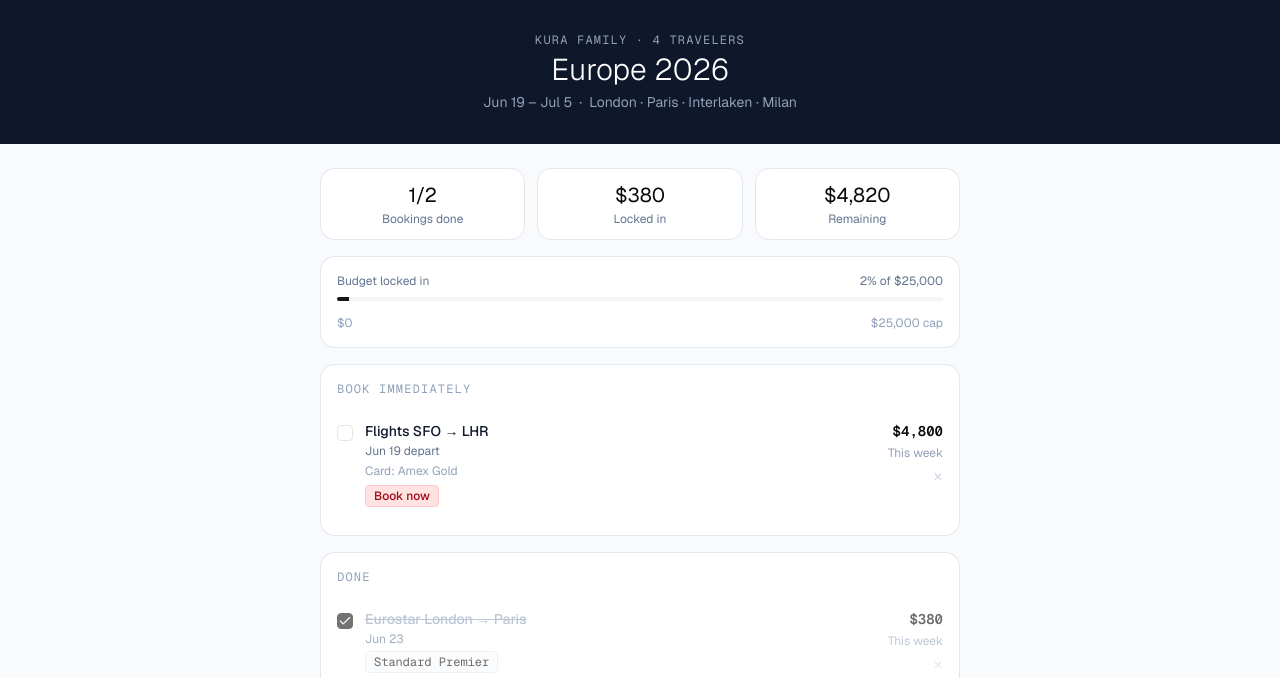
Toggle booking status › updates summary client-side after toggle without re-fetching
This screenshot has width=1280, height=678.
Expected: the text "Flights SFO → LHR" is shown, x1=365 y1=422 x2=489 y2=440
Step 1. Click the checkbox next to "Flights SFO → LHR" → {"x": 345, "y": 433}, box x1=337 y1=425 x2=353 y2=441
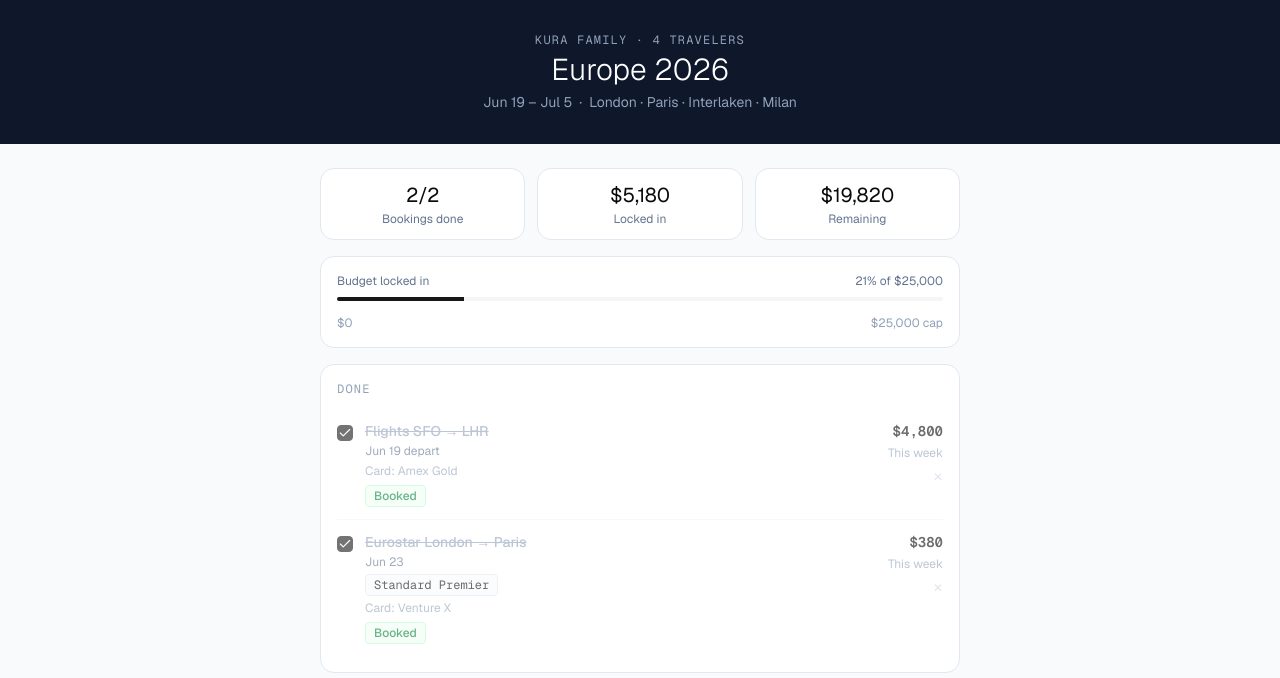
Now the text "Bookings done" shows "2/2", box x1=406 y1=182 x2=439 y2=208
